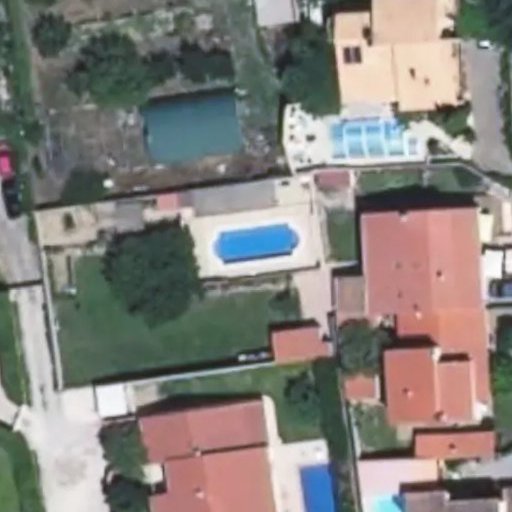pool: (209, 230, 301, 253)
